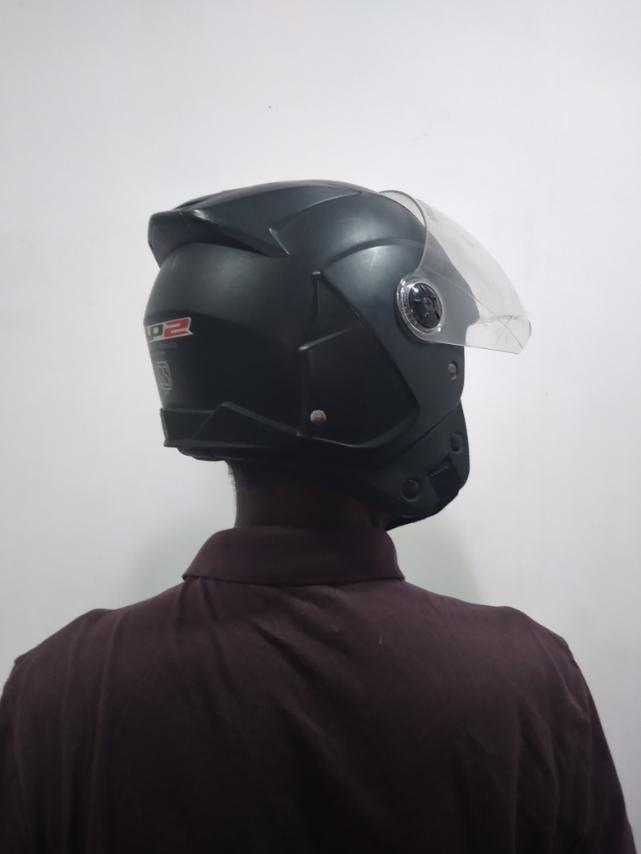helmet: (142, 178, 532, 521)
